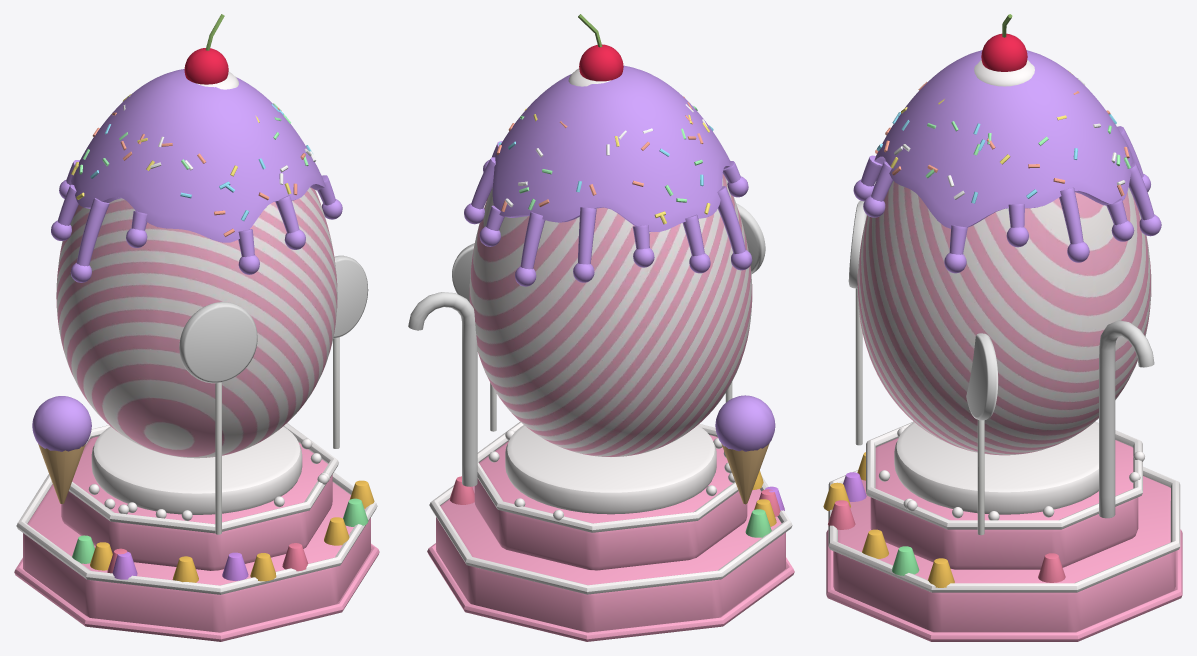
The model's file is sugarrushegg.glb.
The picture shows the model from 3 angles, left to right: view 1: azimuth 30°, elevation 25°; view 2: azimuth 150°, elevation 25°; view 3: azimuth 270°, elevation 25°; orthographic projection. The views are drawn at different scales.
Parts seen in each view (by area): view 1: SugarRushEgg_Body, SugarRushEgg_Frosting, SugarRushEgg_Stand_Base, SugarRushEgg_Stand_Mid, SugarRushEgg_Stand_Cup, SugarRushEgg_Lollipop, SugarRushEgg_Stand_Trim, SugarRushEgg_Stand_Trim.002, SugarRushEgg_Stand_Trim.001, SugarRushEgg_Scoop, SugarRushEgg_Lollipop.001, SugarRushEgg_WaffleCone (+13 smaller); view 2: SugarRushEgg_Body, SugarRushEgg_Frosting, SugarRushEgg_Stand_Base, SugarRushEgg_Stand_Mid, SugarRushEgg_Stand_Cup, SugarRushEgg_Stand_Trim, SugarRushEgg_Stand_Trim.002, SugarRushEgg_CandyCane, SugarRushEgg_Stand_Trim.001, SugarRushEgg_Scoop, SugarRushEgg_WaffleCone, SugarRushEgg_Cherry (+8 smaller); view 3: SugarRushEgg_Body, SugarRushEgg_Frosting, SugarRushEgg_Stand_Base, SugarRushEgg_Stand_Mid, SugarRushEgg_Stand_Cup, SugarRushEgg_Stand_Trim, SugarRushEgg_Stand_Trim.002, SugarRushEgg_CandyCane, SugarRushEgg_Stand_Trim.001, SugarRushEgg_Lollipop.001, SugarRushEgg_Cherry, SugarRushEgg_LollyStick (+12 smaller).
Boxes of the visible parts, box(x1,y1,x2,y2) form: SugarRushEgg_Body: box(56, 187, 337, 458); SugarRushEgg_Frosting: box(71, 69, 325, 242); SugarRushEgg_Stand_Base: box(23, 482, 370, 632); SugarRushEgg_Stand_Mid: box(61, 436, 332, 570); SugarRushEgg_Stand_Cup: box(91, 426, 302, 514); SugarRushEgg_Lollipop: box(179, 302, 257, 383); SugarRushEgg_Stand_Trim: box(16, 472, 377, 594); SugarRushEgg_Stand_Trim.002: box(14, 543, 379, 641); SugarRushEgg_Stand_Trim.001: box(69, 423, 338, 533); SugarRushEgg_Scoop: box(32, 396, 91, 451); SugarRushEgg_Lollipop.001: box(333, 255, 368, 338); SugarRushEgg_WaffleCone: box(38, 443, 85, 503); SugarRushEgg_Body: box(469, 174, 752, 456); SugarRushEgg_Frosting: box(492, 65, 730, 231); SugarRushEgg_Stand_Base: box(436, 486, 785, 632); SugarRushEgg_Stand_Mid: box(474, 435, 747, 570); SugarRushEgg_Stand_Cup: box(505, 425, 716, 514); SugarRushEgg_Stand_Trim: box(429, 476, 792, 594); SugarRushEgg_Stand_Trim.002: box(427, 543, 794, 641); SugarRushEgg_CandyCane: box(408, 292, 477, 486); SugarRushEgg_Stand_Trim.001: box(477, 422, 738, 532); SugarRushEgg_Scoop: box(715, 395, 775, 451); SugarRushEgg_WaffleCone: box(721, 443, 769, 504); SugarRushEgg_Cherry: box(579, 44, 623, 81); SugarRushEgg_Body: box(857, 181, 1151, 455); SugarRushEgg_Frosting: box(874, 50, 1133, 228); SugarRushEgg_Stand_Base: box(833, 476, 1175, 632); SugarRushEgg_Stand_Mid: box(870, 438, 1138, 569); SugarRushEgg_Stand_Cup: box(894, 422, 1098, 514); SugarRushEgg_Stand_Trim: box(828, 466, 1180, 592); SugarRushEgg_Stand_Trim.002: box(826, 529, 1182, 641); SugarRushEgg_CandyCane: box(1099, 320, 1154, 518); SugarRushEgg_Stand_Trim.001: box(866, 421, 1142, 529); SugarRushEgg_Lollipop.001: box(966, 333, 998, 420); SugarRushEgg_Cherry: box(981, 33, 1027, 71); SugarRushEgg_LollyStick: box(855, 288, 862, 445).
Bounding box in the file's own units: 3.38 × 5.42 × 3.1.
19 materials, 1 textured.
